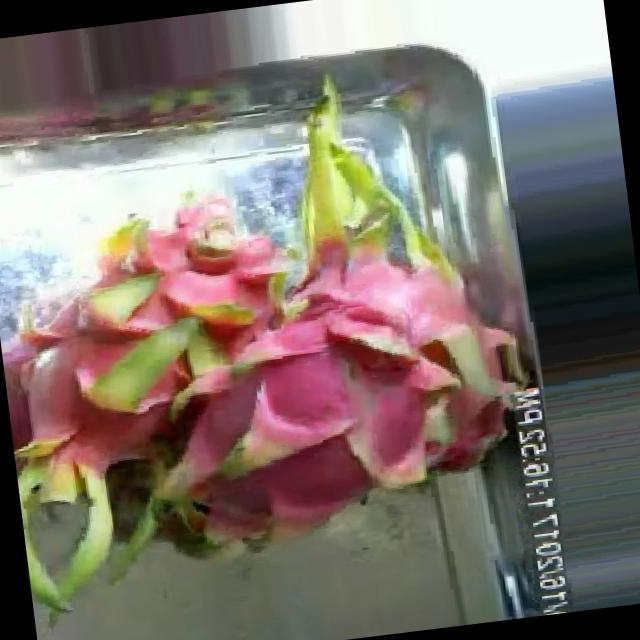Fruit: (402, 368, 524, 488)
